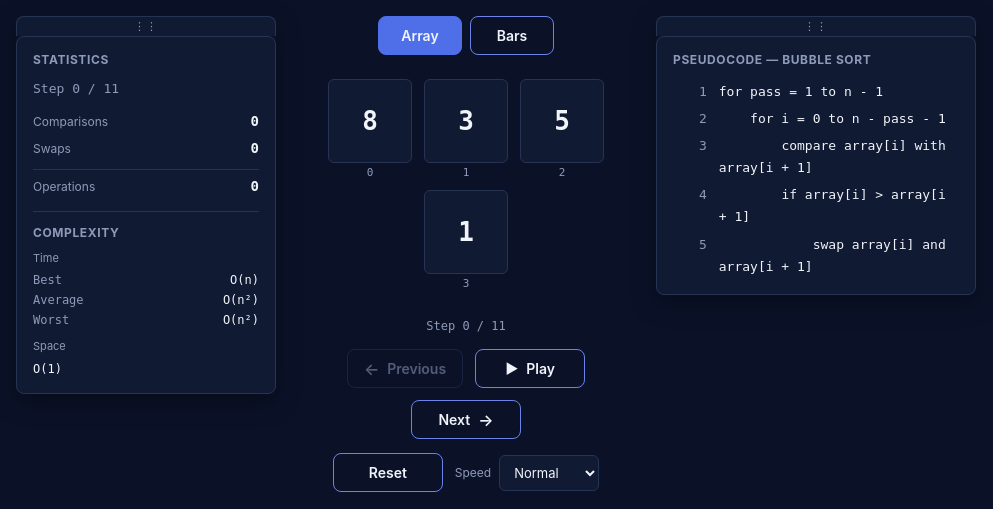
Test: StatisticsPanel integration — autoplay keeps counters synchronized › at autoplay completion, Step N / N and counters equal the total executed operations
Click the button "▶ Play" at (530, 368), box [475,349,585,388]
Wait 10000 ms
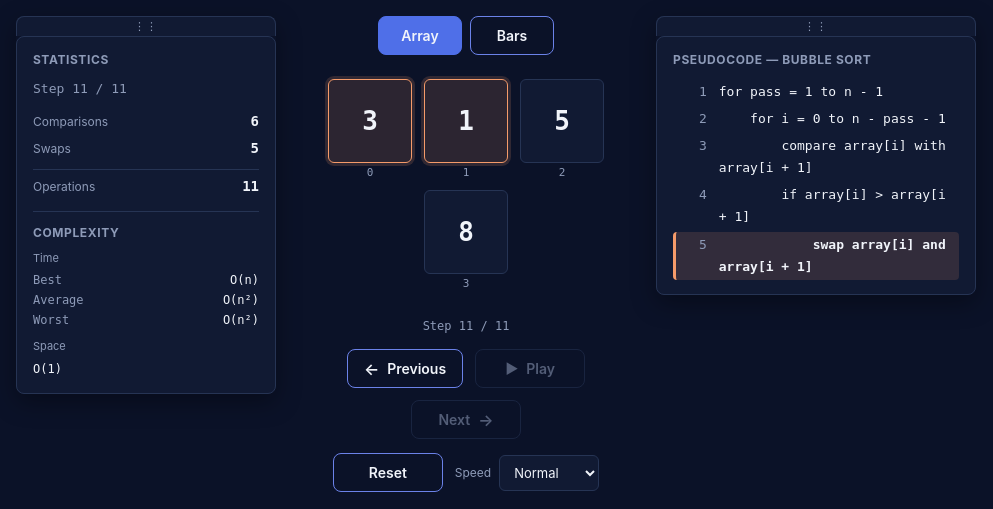
Expected: the text with class "statistics-panel__step" reads "Step 11 / 11", [33,81,127,96]
